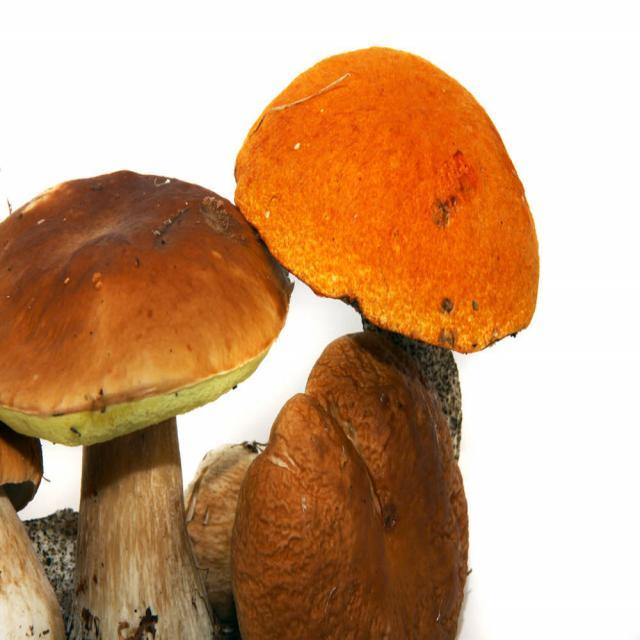Boletus: (0, 168, 292, 640), (236, 46, 539, 352), (186, 331, 465, 640)
